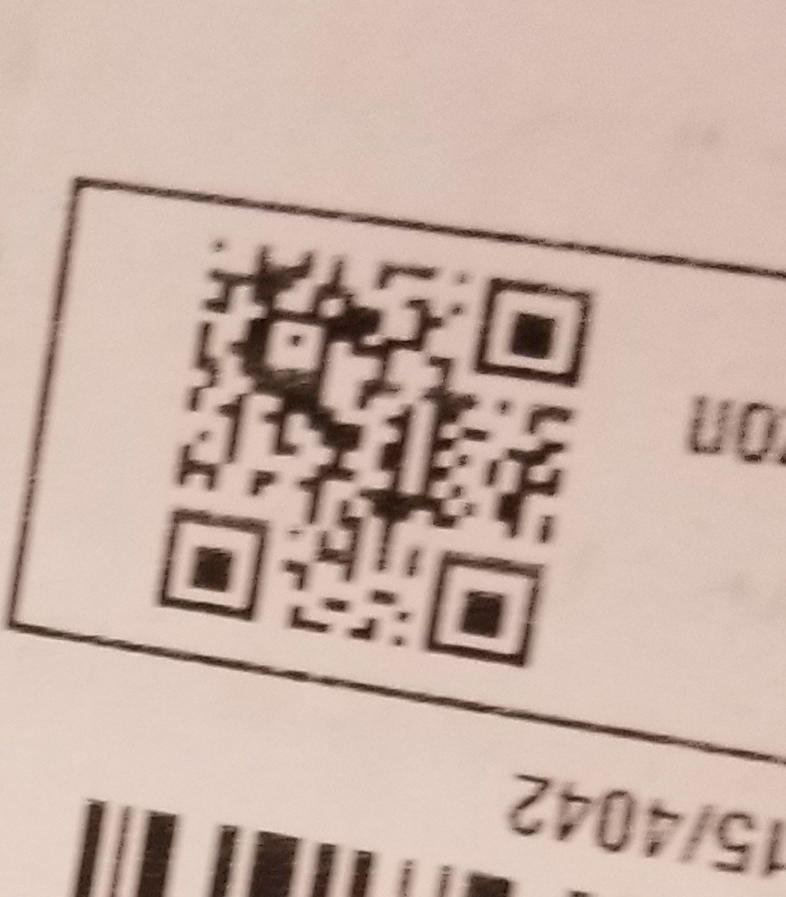QR_CODE: (143, 206, 608, 679)
